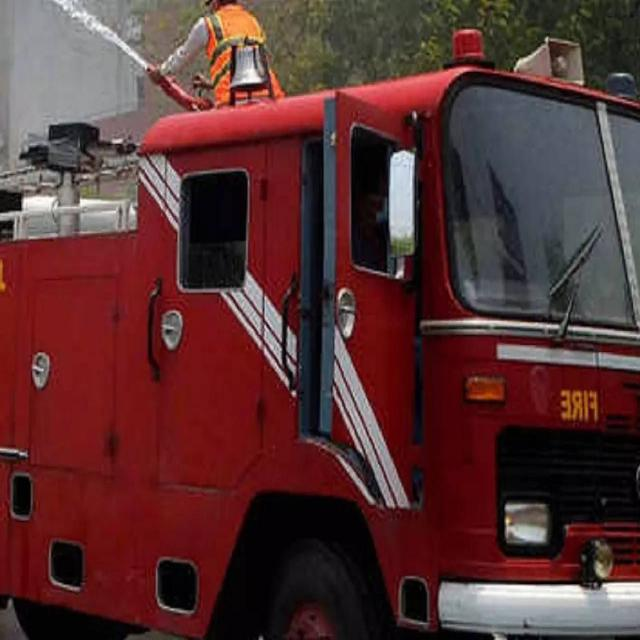emergency: (0, 31, 640, 638)
